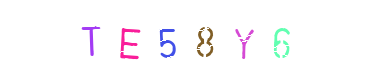5: (127, 0, 207, 80)
6: (234, 0, 314, 80)
8: (155, 0, 235, 80)
E: (117, 0, 197, 80)
T: (87, 0, 167, 80)
Y: (165, 0, 245, 80)
